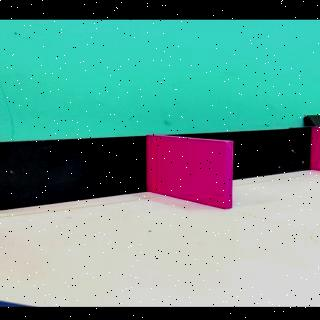xparking: (150, 145, 229, 201), (315, 132, 320, 175)
